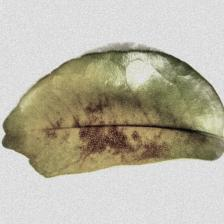black spot: (44, 104, 169, 164)
